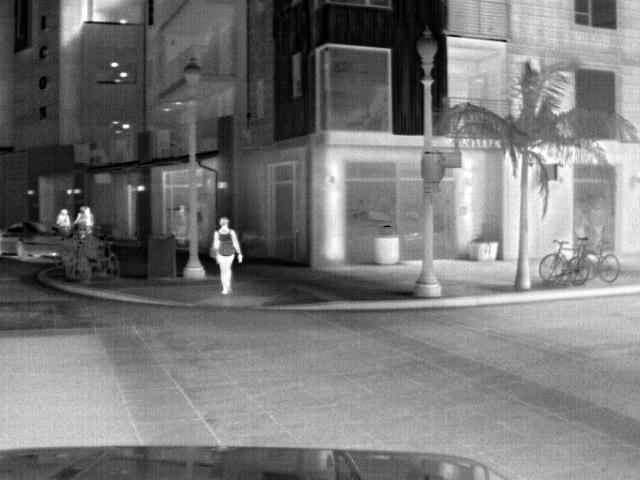car: (0, 220, 63, 262)
person: (207, 216, 244, 294), (76, 204, 95, 229), (55, 204, 72, 229)
